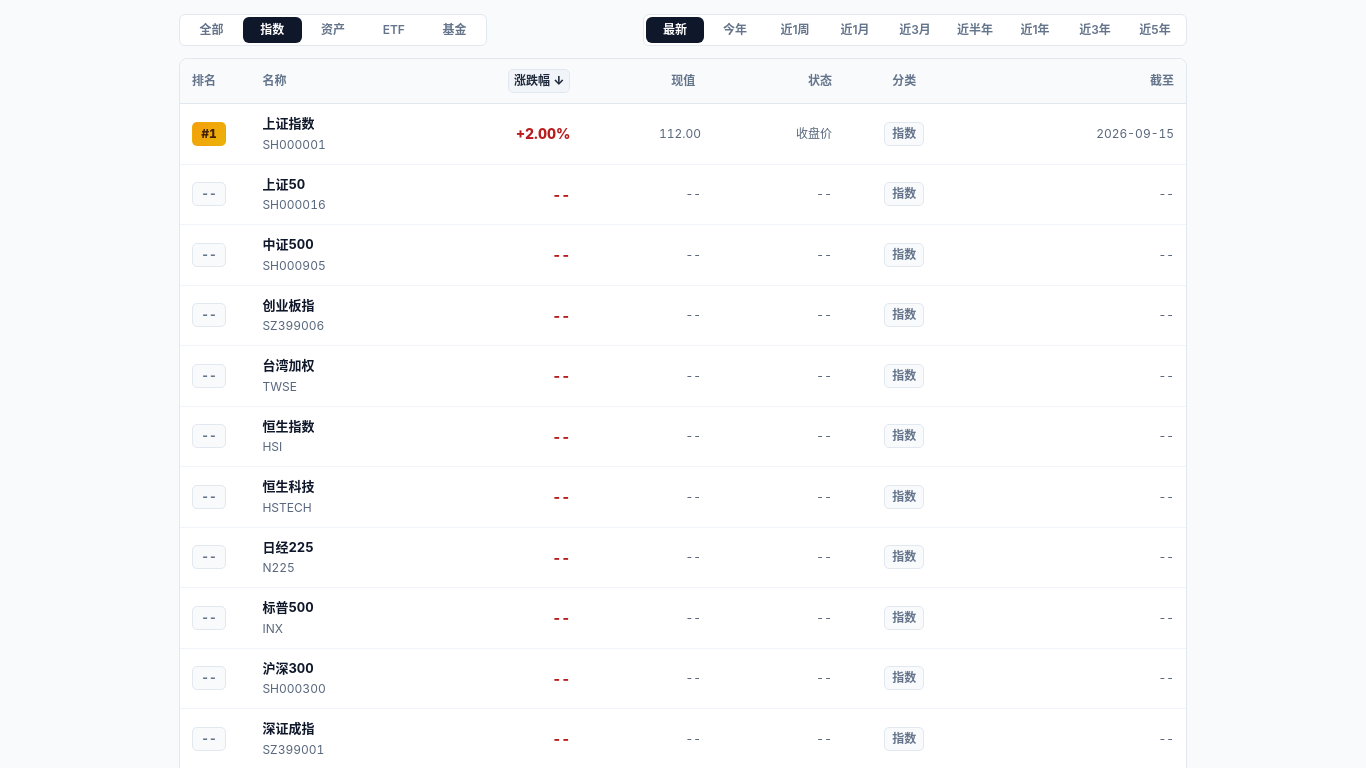
Test case: recent row history dialogs › loads only the clicked history, defaults latest to one month, and reuses the cache
Click the button with aria-label "上证指数走势" at (288, 124), box 262,114 -> 314,134
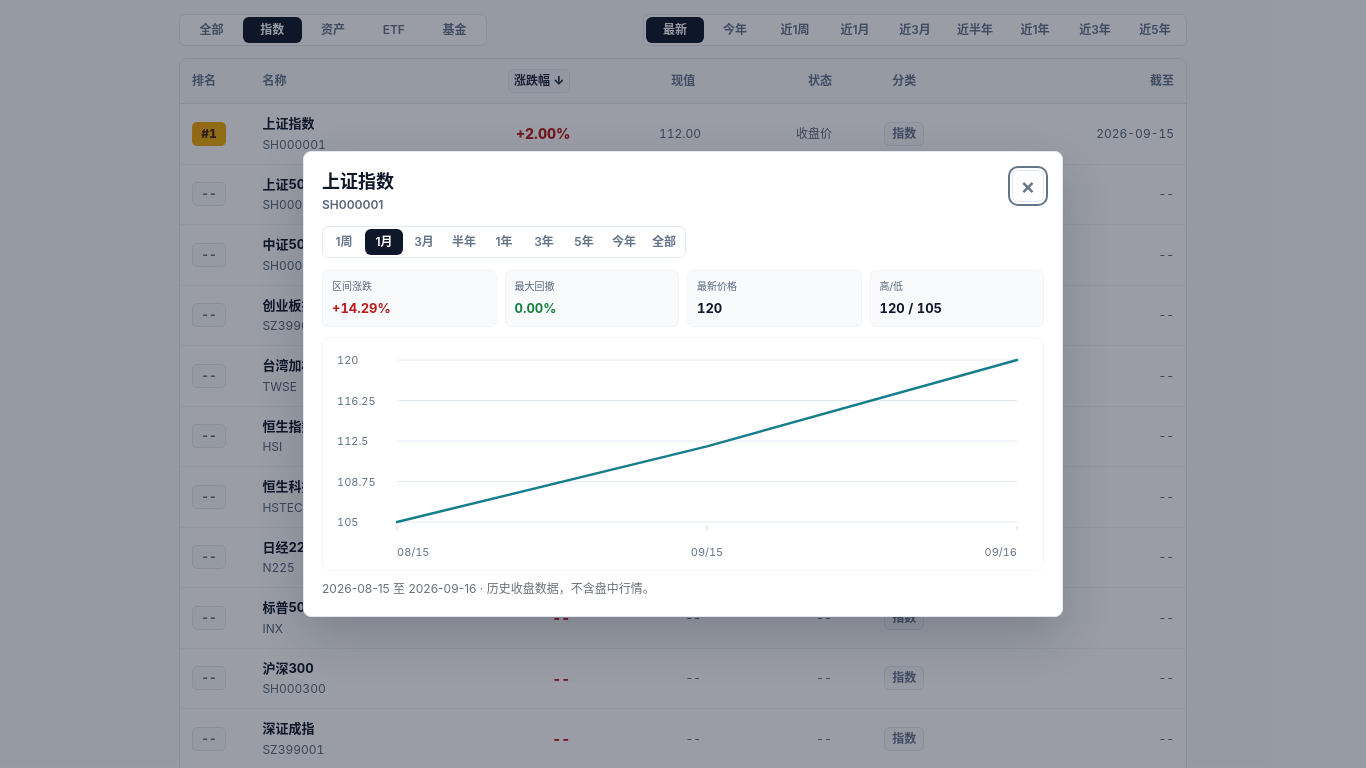
Now the picture is shown, box 333,346 -> 1033,564
Press Escape
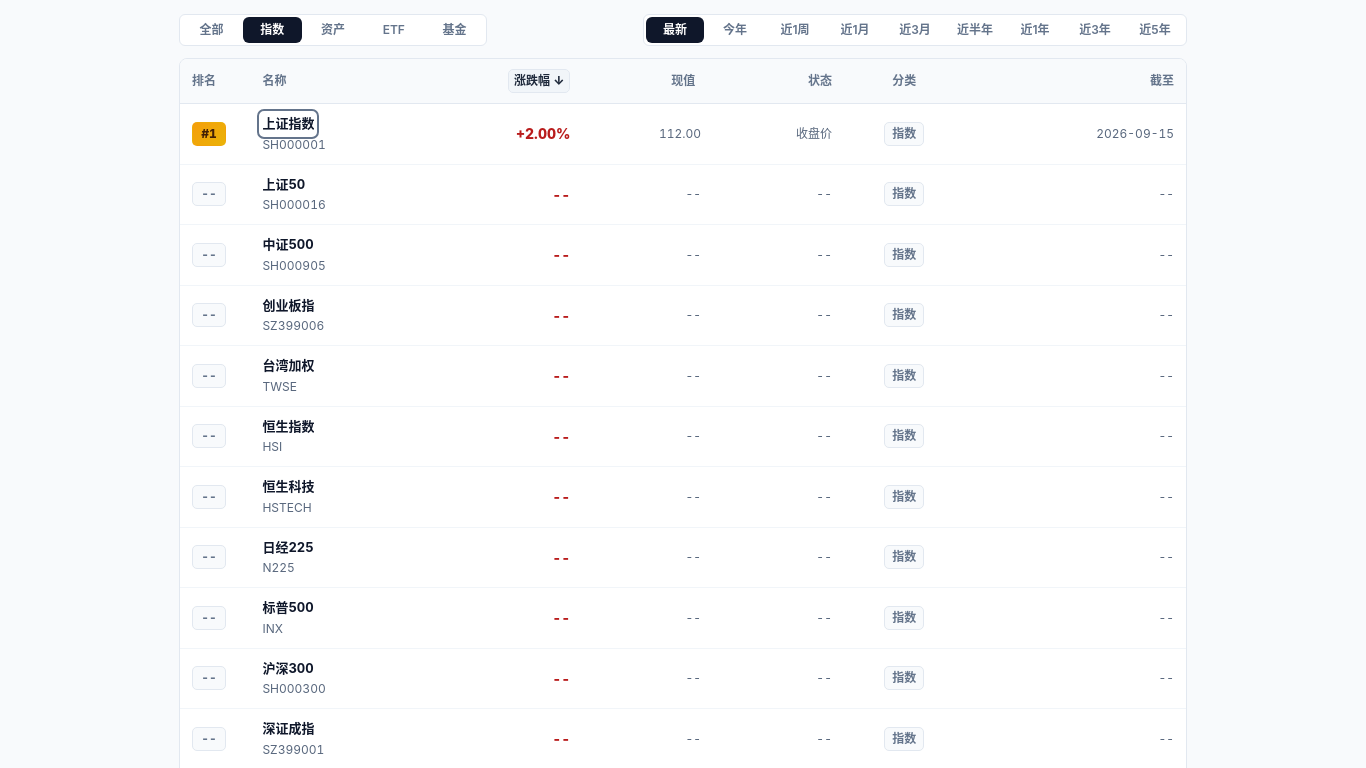
Now the dialog is gone
Click the text "+2.00%" at (517, 134), box 452,104 -> 582,164
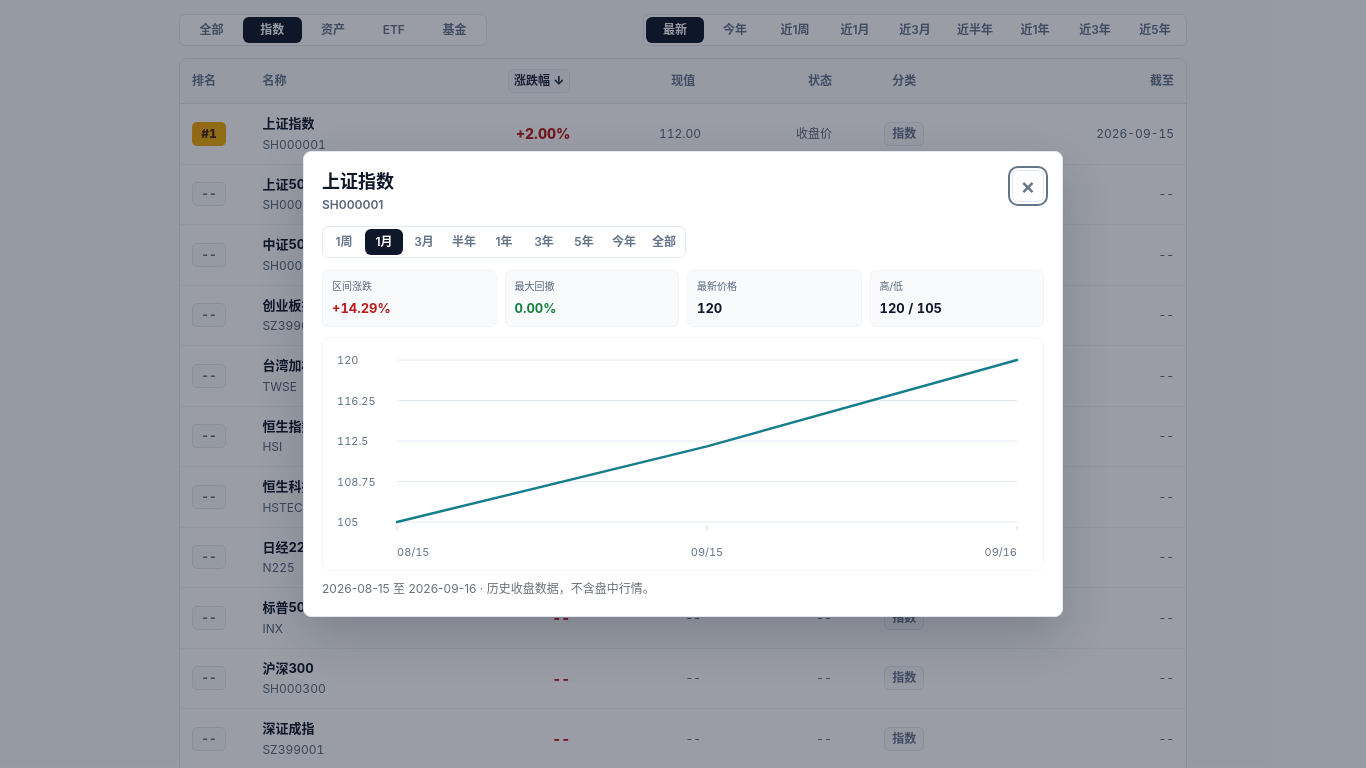
Now the picture is shown, box 333,346 -> 1033,564
